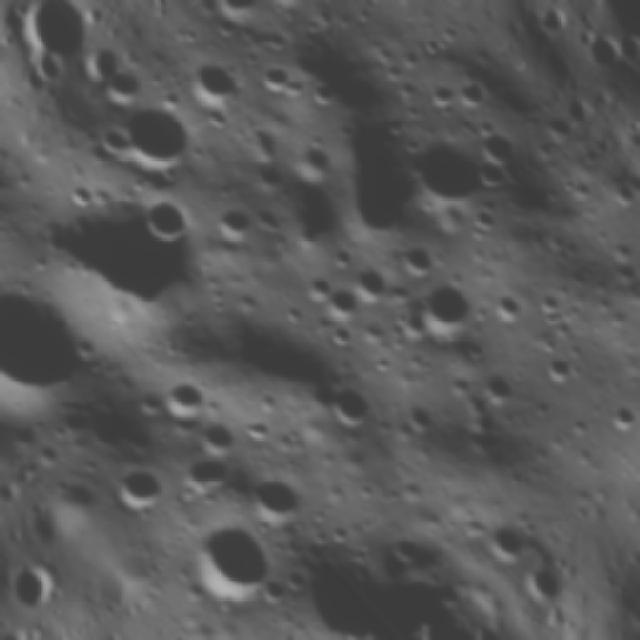crater: (29, 146, 233, 352), (293, 101, 449, 257), (0, 253, 123, 441), (396, 115, 513, 232), (98, 76, 214, 193), (173, 507, 289, 622), (406, 268, 488, 352), (310, 372, 387, 450), (236, 462, 310, 538), (101, 453, 176, 527), (176, 46, 249, 119), (132, 182, 202, 255), (172, 441, 242, 510), (470, 508, 539, 578), (155, 369, 219, 434), (466, 115, 528, 178), (284, 132, 344, 192), (185, 408, 244, 466), (379, 520, 438, 578), (85, 114, 141, 169), (385, 300, 440, 355), (465, 151, 520, 206), (532, 342, 586, 396), (481, 282, 534, 335), (468, 362, 521, 415), (444, 68, 496, 119), (237, 119, 288, 170), (456, 197, 507, 248), (208, 198, 258, 250), (523, 278, 572, 328), (250, 50, 298, 98), (319, 282, 367, 330), (56, 169, 104, 216), (271, 559, 318, 607), (295, 265, 343, 312), (398, 395, 445, 442), (597, 394, 640, 444), (129, 386, 171, 428), (320, 316, 362, 358), (252, 574, 292, 614), (373, 52, 413, 91), (327, 620, 402, 640), (304, 72, 342, 110), (386, 68, 423, 105), (209, 0, 268, 23), (257, 0, 318, 22), (393, 39, 429, 76), (327, 241, 362, 277)
